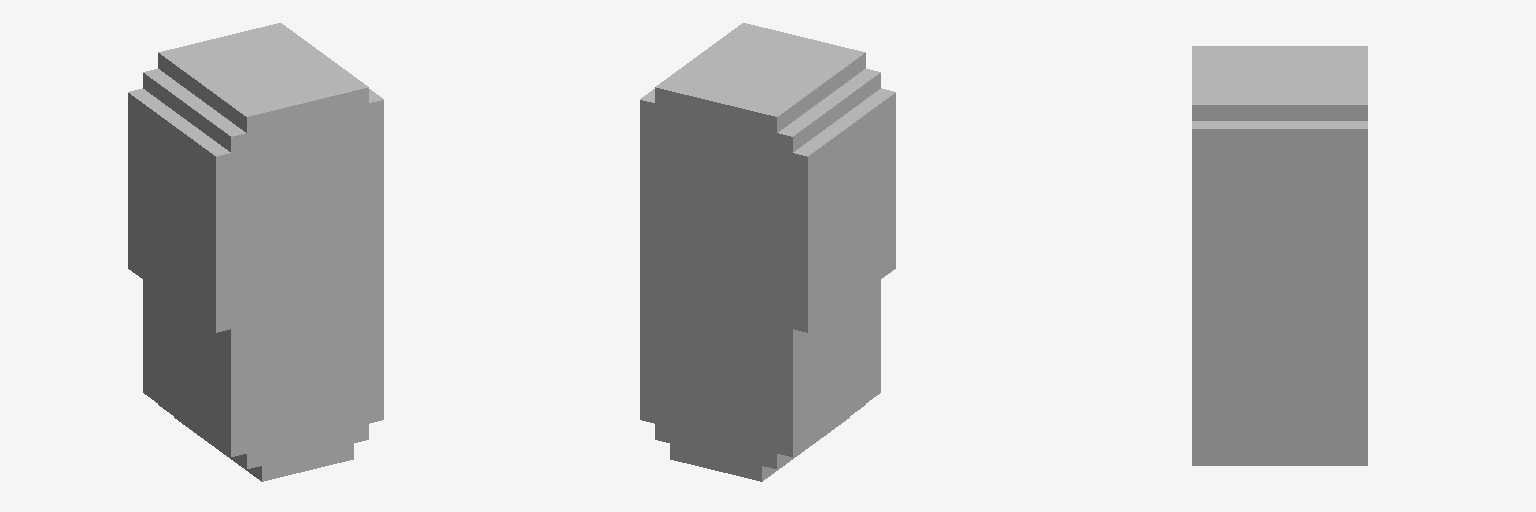
File: girl.obj
3 renders of one model, left to right at view 1: azimuth 30°, elevation 25°; view 2: azimuth 150°, elevation 25°; view 3: azimuth 270°, elevation 25°, orthographic.
Parts seen in each view (by area): view 1: object 1; view 2: object 1; view 3: object 1.
Part boxes in pixels (x1,y1,x2,y2): object 1: (128,23,383,481); object 1: (640,23,895,481); object 1: (1192,46,1367,465).
Bounding box in the file's own units: 1.1 × 2.3 × 1.